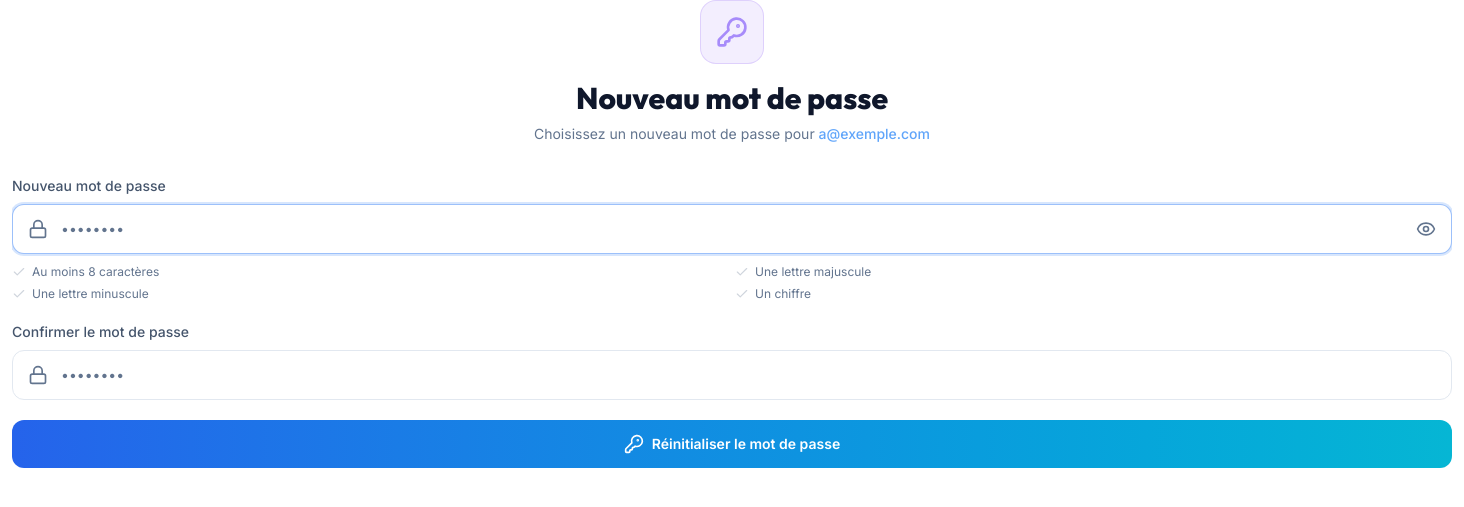
Scenario: Page de réinitialisation du mot de passe › affiche sous le champ le refus du serveur sur le nouveau mot de passe
Type "Nouveau123" into the password field labelled "Nouveau mot de passe" at coordinates (732, 229), box [12,204,1452,254]
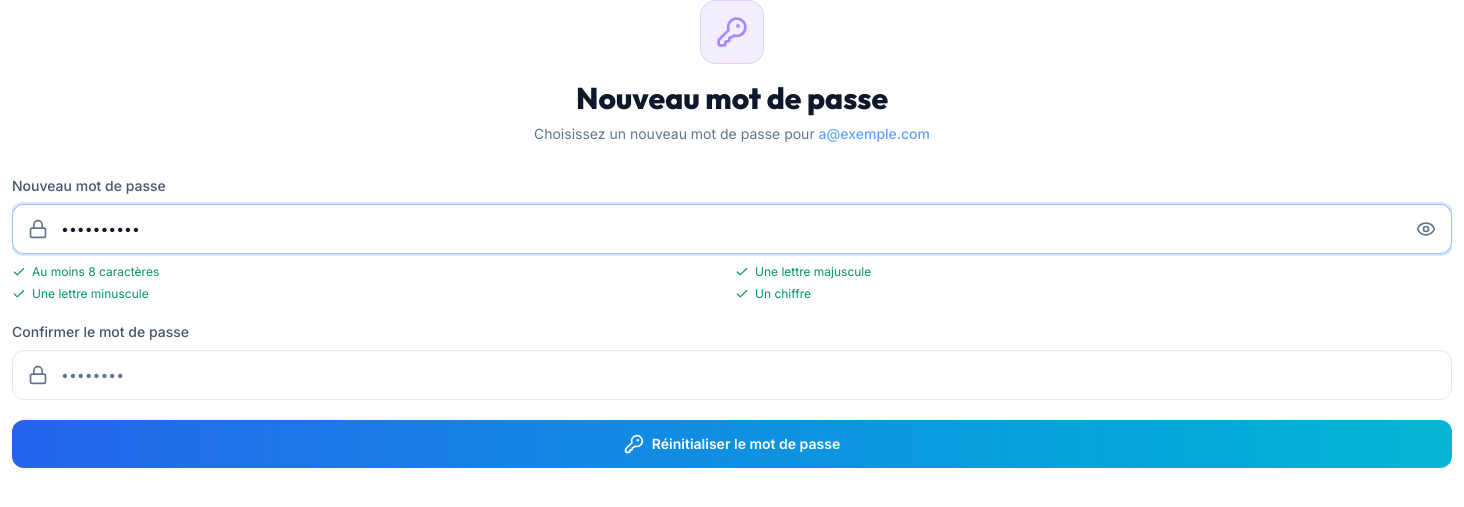
Type "Nouveau123" into the password field labelled "Confirmer le mot de passe" at coordinates (732, 375), box [12,350,1452,400]
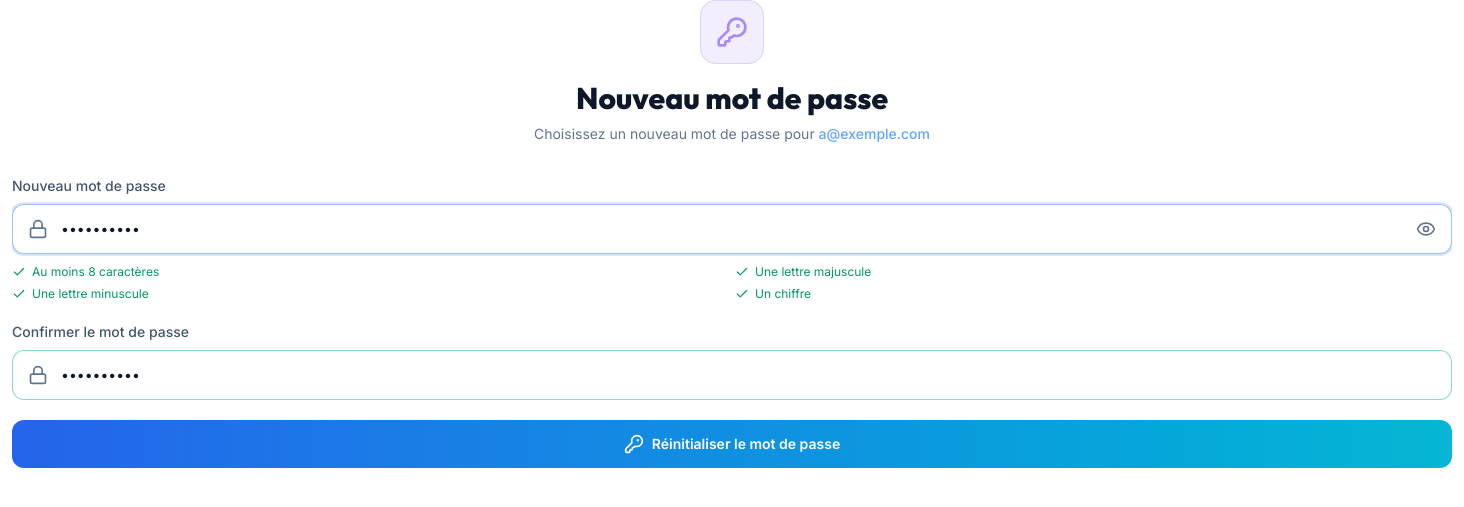
Submit the form named "Réinitialiser le mot de passe", box [12,176,1452,468]
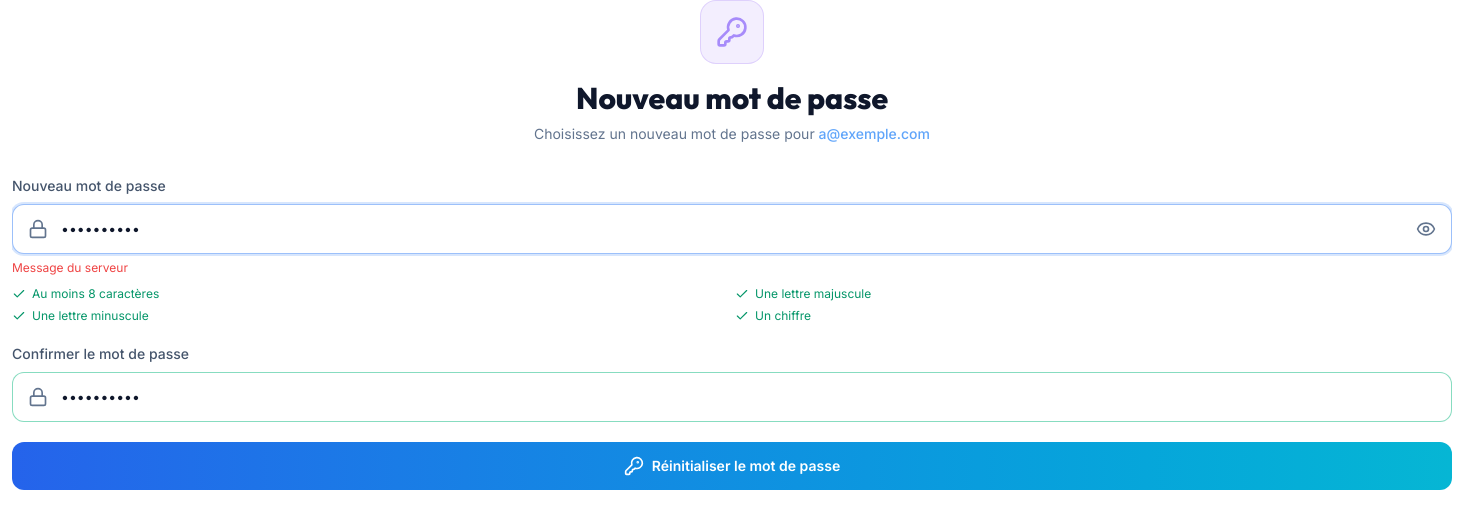
Expected: the message "Message du serveur" is shown, [12,260,128,275]
Expected: the text "Message du serveur" is shown once, [12,260,128,275]
